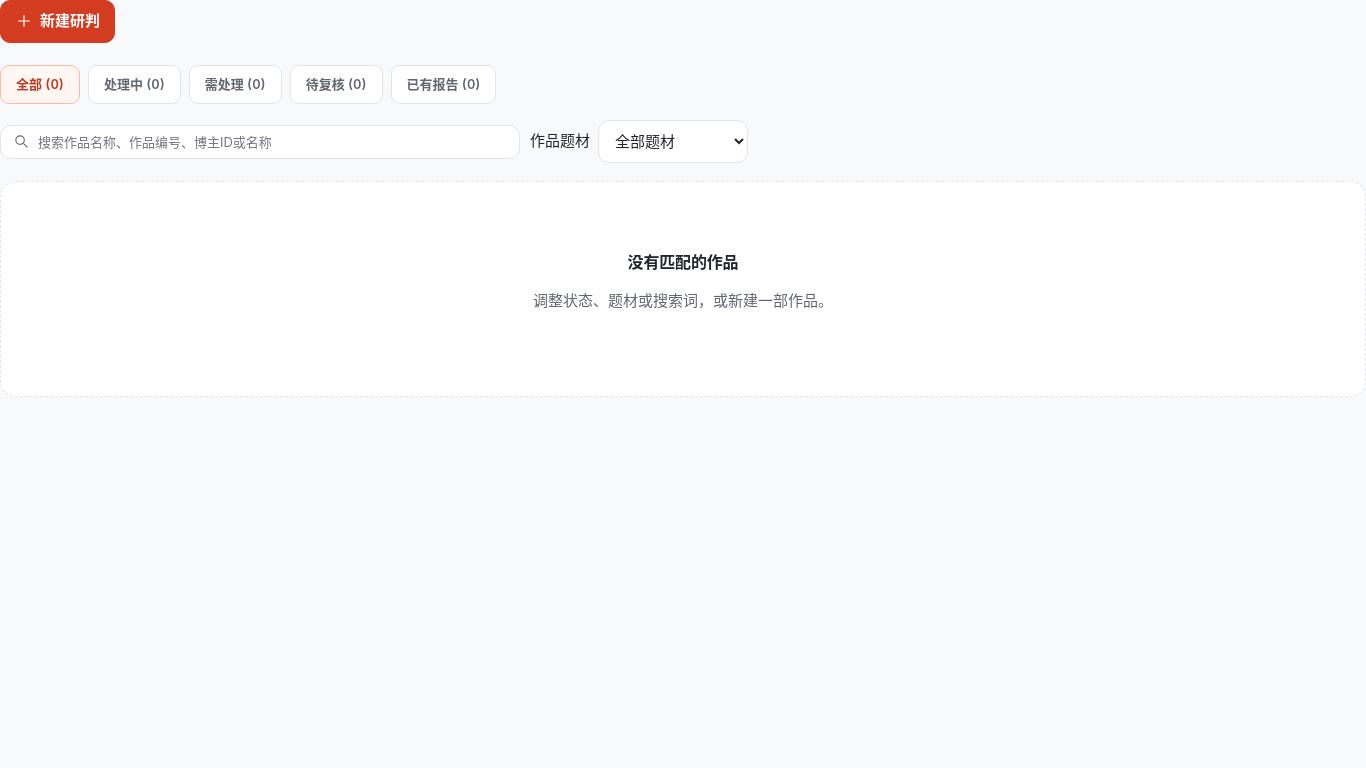
Test case: 真实研判导入 › 空工作区不回退演示作品，保留作品筛选和新建表单
Check: the heading "没有匹配的作品" is shown, box [628, 252, 738, 272]
Click the button "新建研判": click(58, 21) [0, 0, 115, 43]
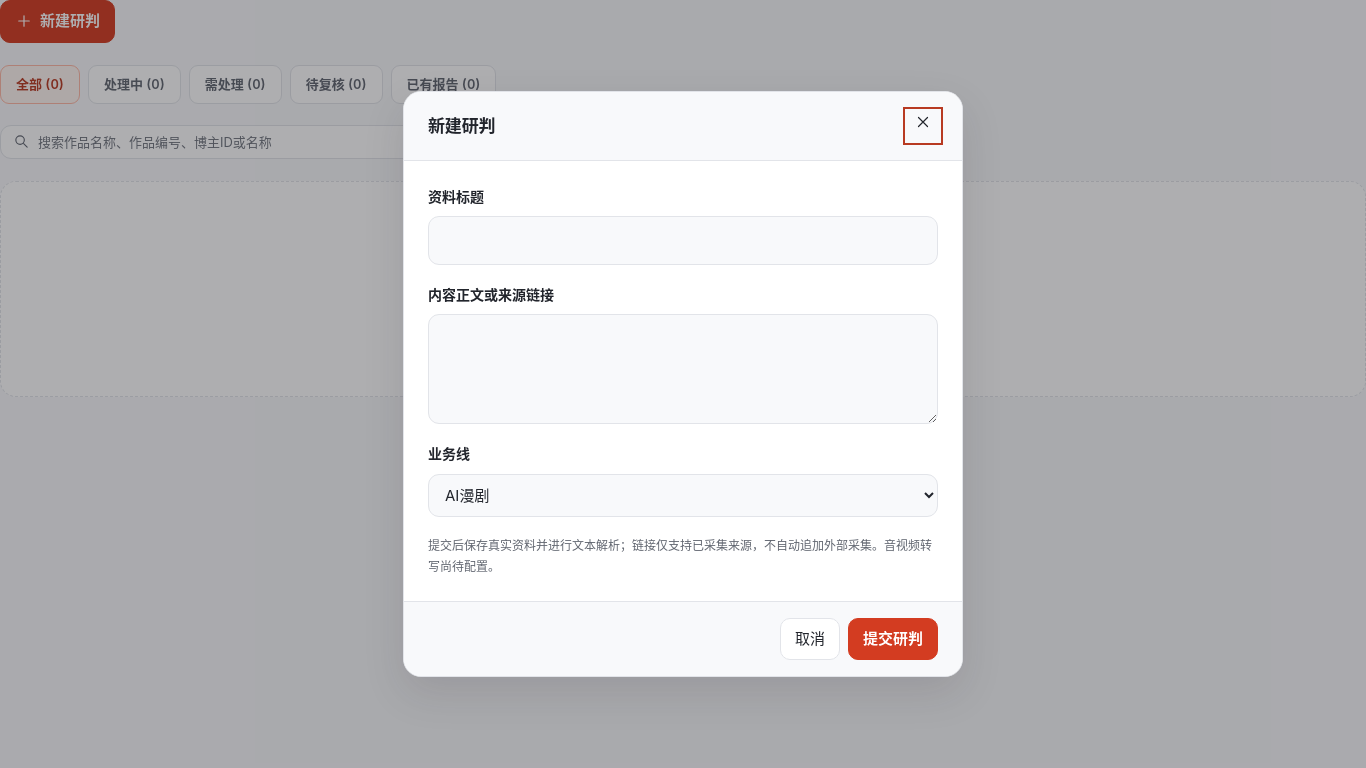
Check: the field labelled "资料标题" is shown, box [428, 216, 938, 265]
Check: the text box labelled "内容正文或来源链接" is shown, box [428, 314, 938, 424]
